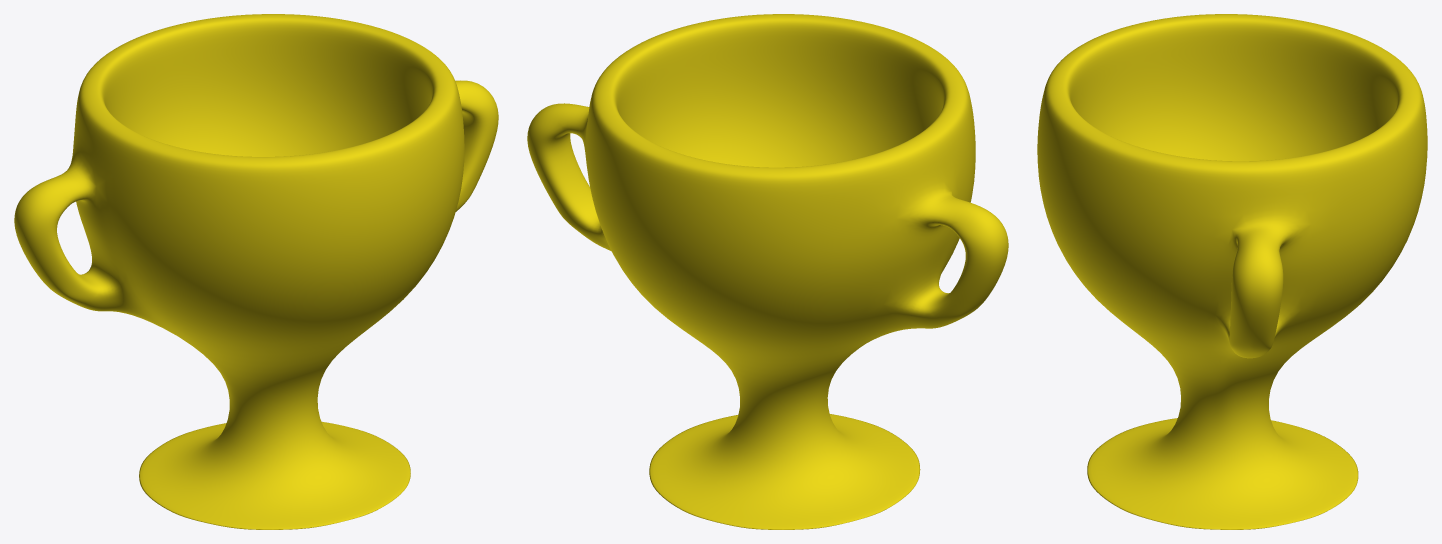
The model's file is gold_cup.fbx.
3 renders of one model, left to right at view 1: azimuth 30°, elevation 25°; view 2: azimuth 150°, elevation 25°; view 3: azimuth 270°, elevation 25°, orthographic.
Visible parts, largest first — view 1: CupHighPoly; view 2: CupHighPoly; view 3: CupHighPoly.
Part boxes in pixels (left/top/right/bottom): CupHighPoly: left=14, top=14, right=498, bottom=529; CupHighPoly: left=527, top=14, right=1008, bottom=529; CupHighPoly: left=1037, top=14, right=1427, bottom=529.
Bounding box in the file's own units: 65.49 × 51.36 × 46.65.
